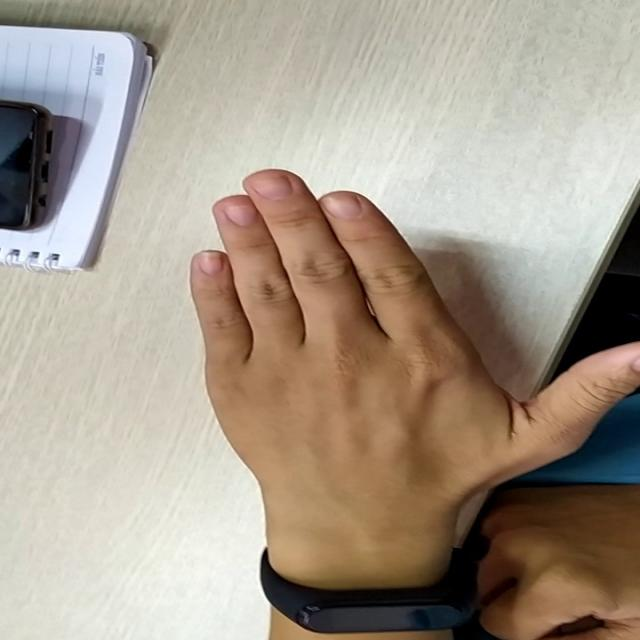hand: (169, 172, 561, 530)
